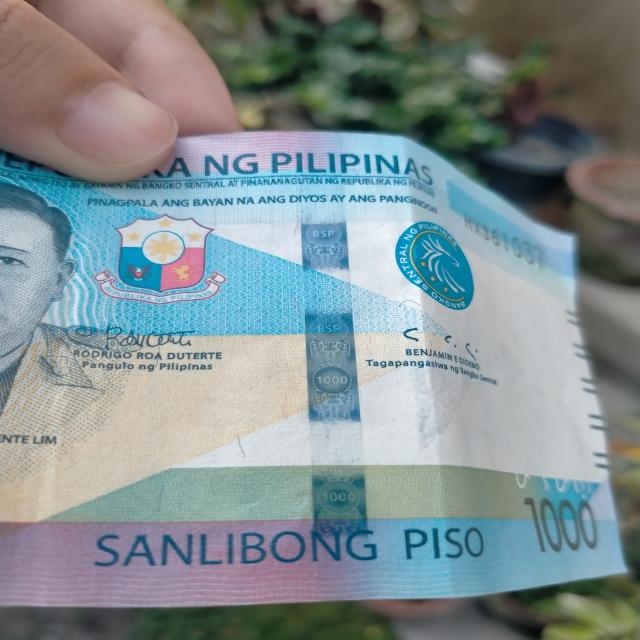security_thread: (304, 128, 362, 602)
see_through_mark: (508, 453, 600, 500)
serial_number: (457, 209, 551, 270)
